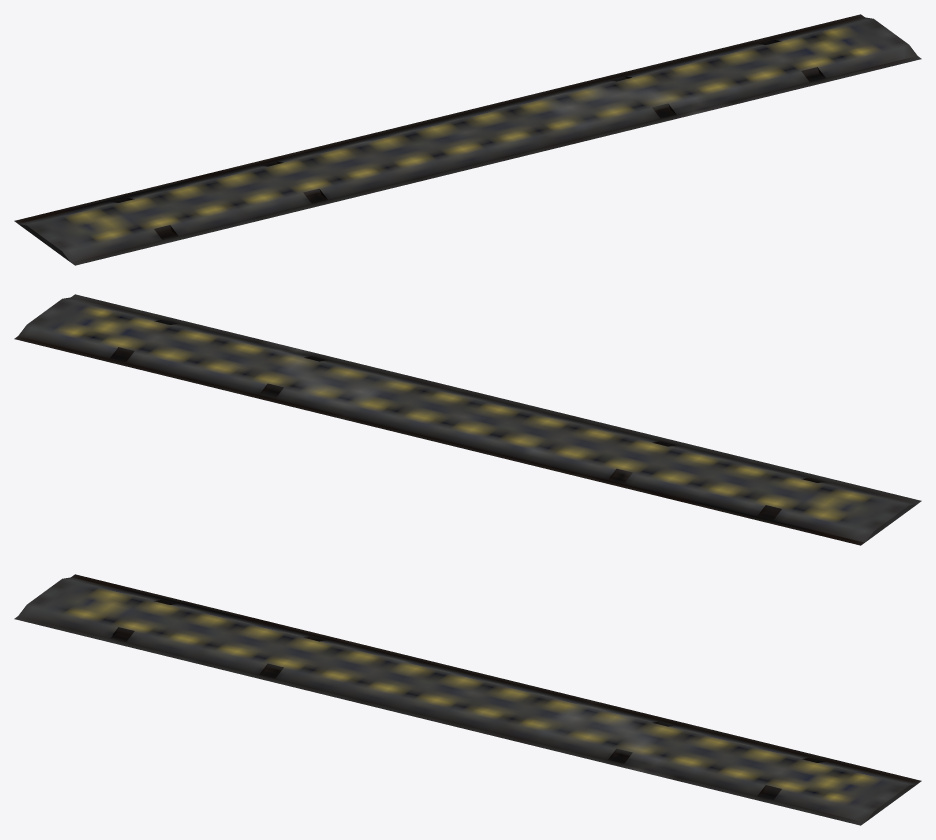
The model's file is Panel_19.FBX.
3 renders of one model, top to bottom at view 1: azimuth 30°, elevation 25°; view 2: azimuth 150°, elevation 25°; view 3: azimuth 330°, elevation 25°, orthographic.
Parts seen in each view (by area): view 1: Panel_19; view 2: Panel_19; view 3: Panel_19.
Part boxes in pixels (box(x1,y1,x2,y2)): Panel_19: box(14, 14, 921, 265); Panel_19: box(14, 294, 921, 545); Panel_19: box(14, 574, 921, 825).
Bounding box in the file's own units: 400 × 2.22 × 50.
